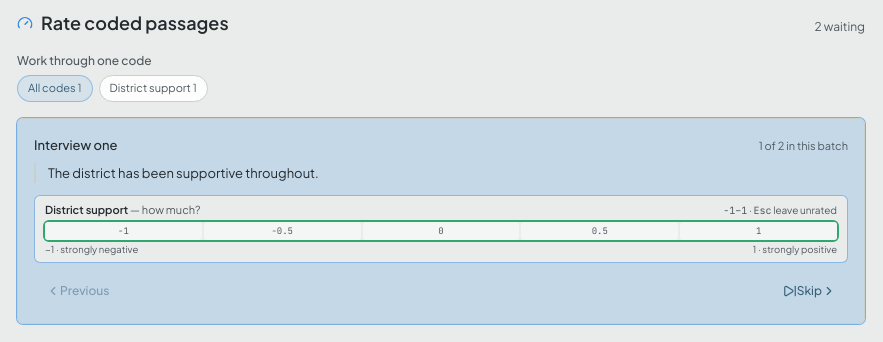
Test: RatingSweep — skipping writes nothing › the Skip button does the same and names what it does
This screenshot has width=883, height=342.
Expected: the text "The district has been supportive throughout." is shown, [34,162,848,182]
Click the button with aria-label "leave unrated and go to the next passage" at (809, 291), box [771,275,848,307]
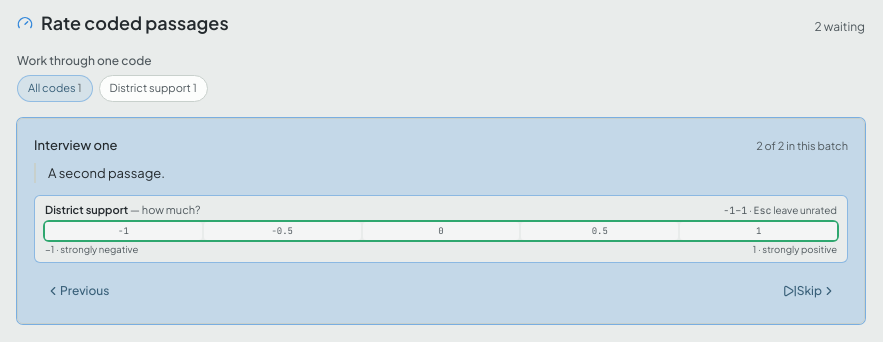
Now the text "A second passage." is shown, box [34,162,848,182]
